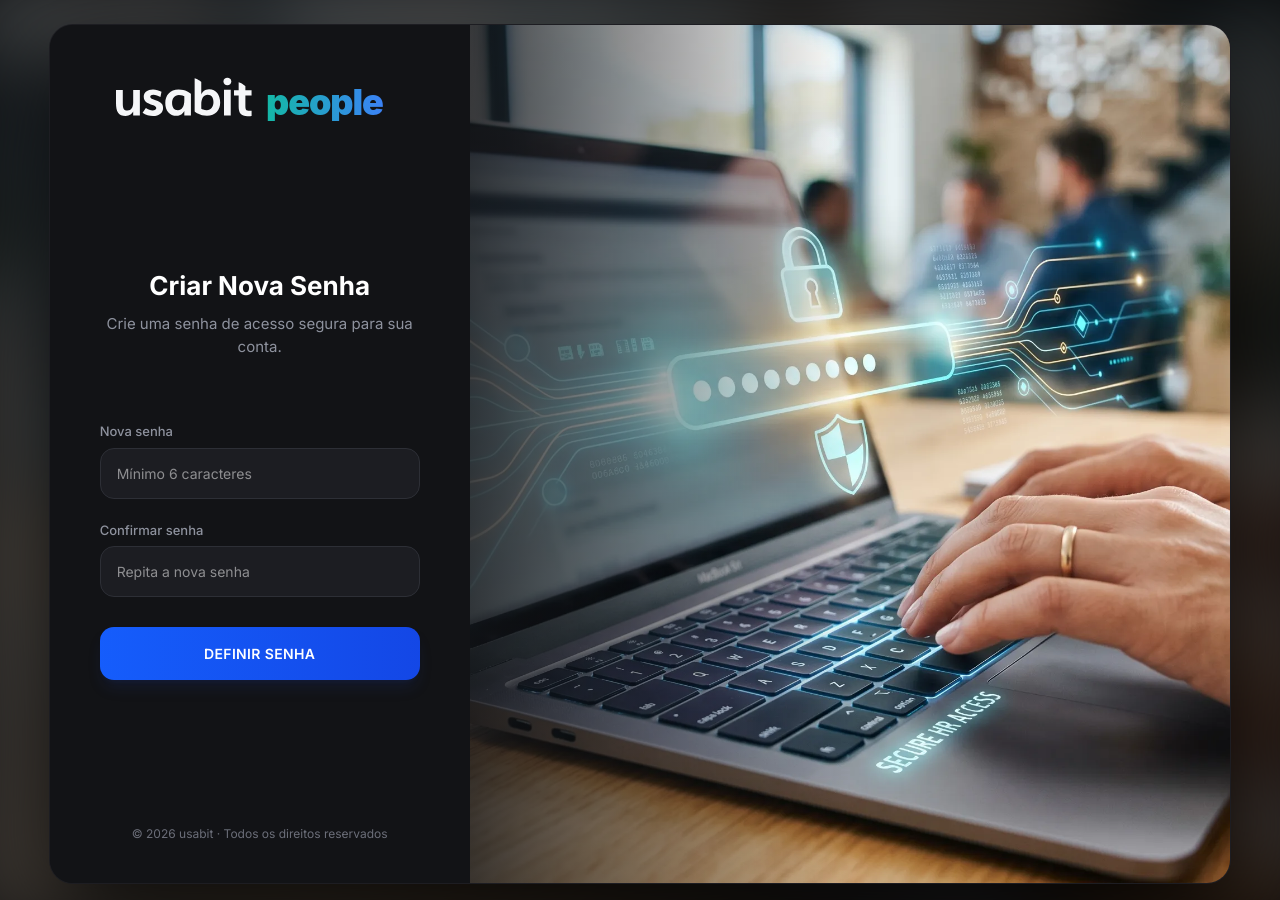
Test: SetPassword › mostra erro do updateUser
The image size is (1280, 900).
expect the heading "Criar Nova Senha" is shown: met, box [149,270,370,301]
Type "123456" into the password field with placeholder "Mínimo 6 caracteres".
click(260, 473); type("123456")  # box [100,448,420,498]
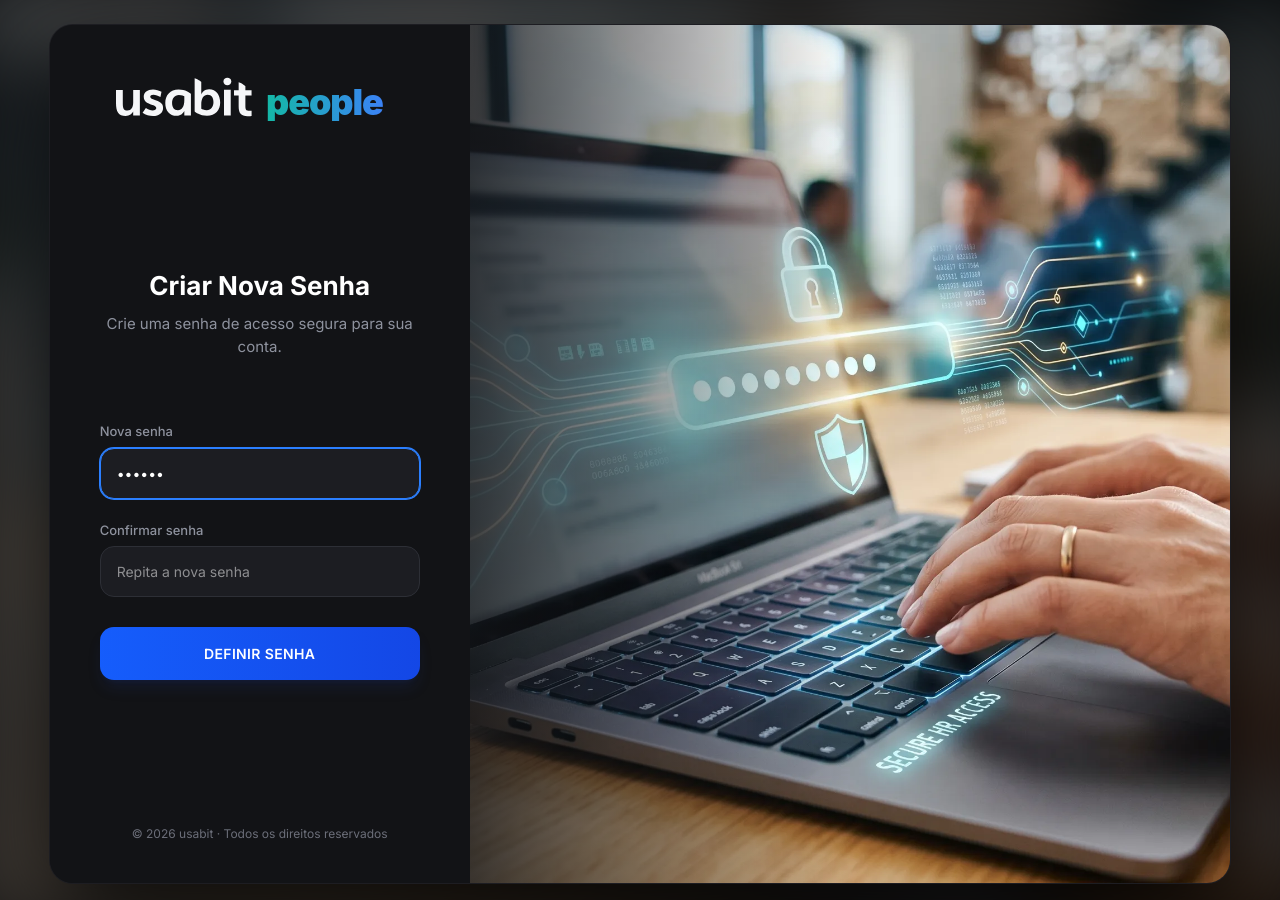
Type "123456" into the password field with placeholder "Repita a nova senha".
click(260, 572); type("123456")  # box [100,546,420,597]
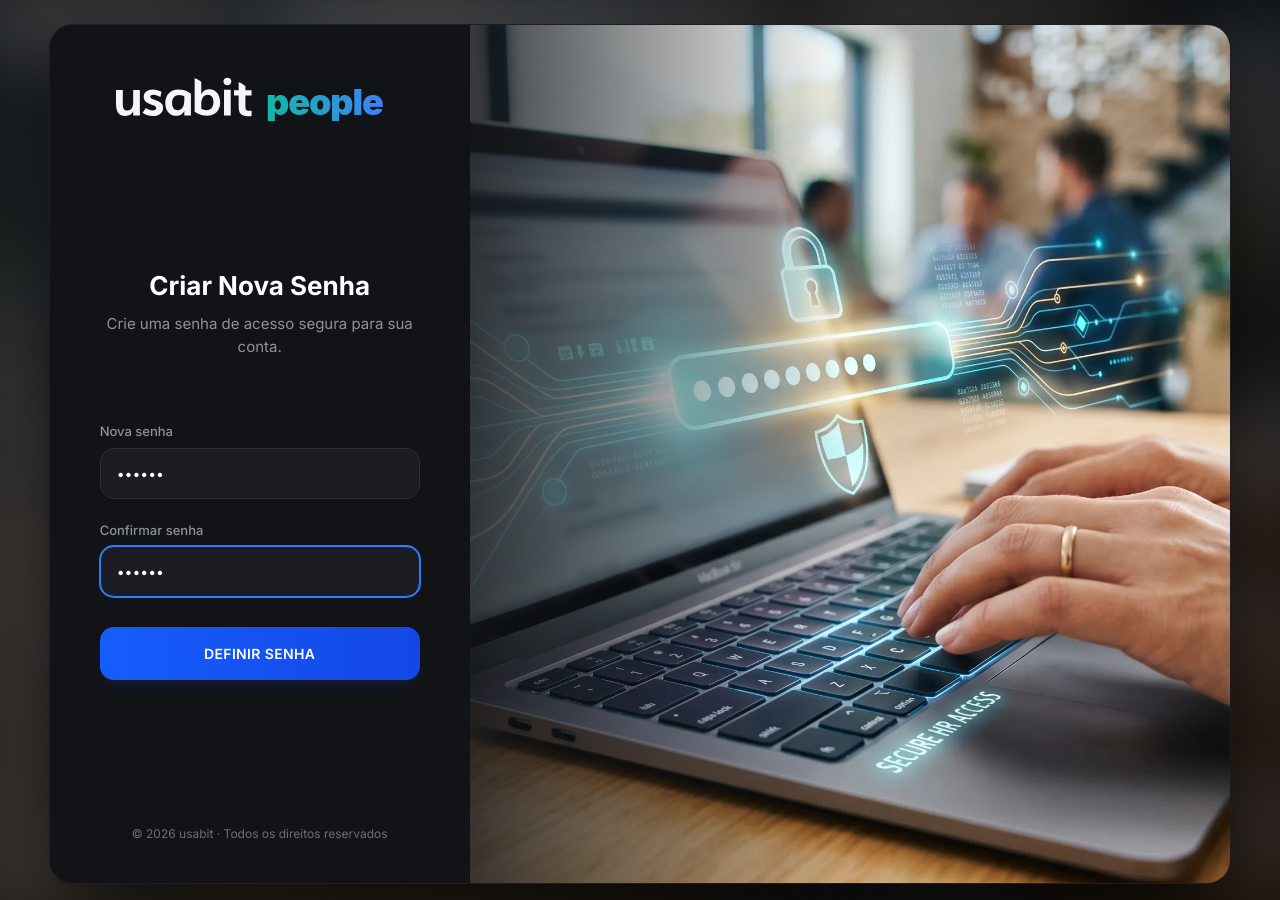
Click the button "DEFINIR SENHA".
click(260, 654)  # box [100,627,420,680]
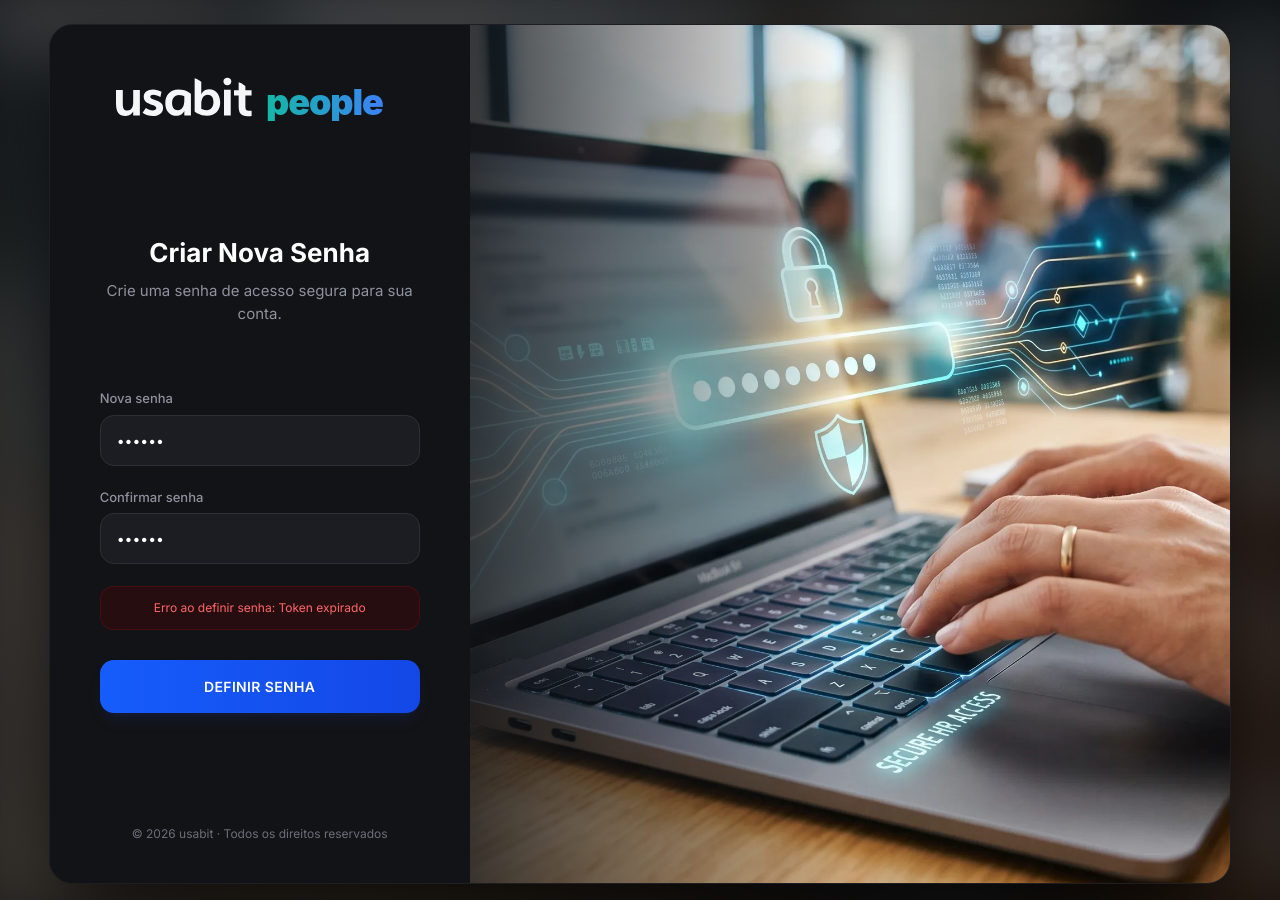
expect the text "Erro ao definir senha: Token expirado" is shown: met, box [100,586,420,630]
